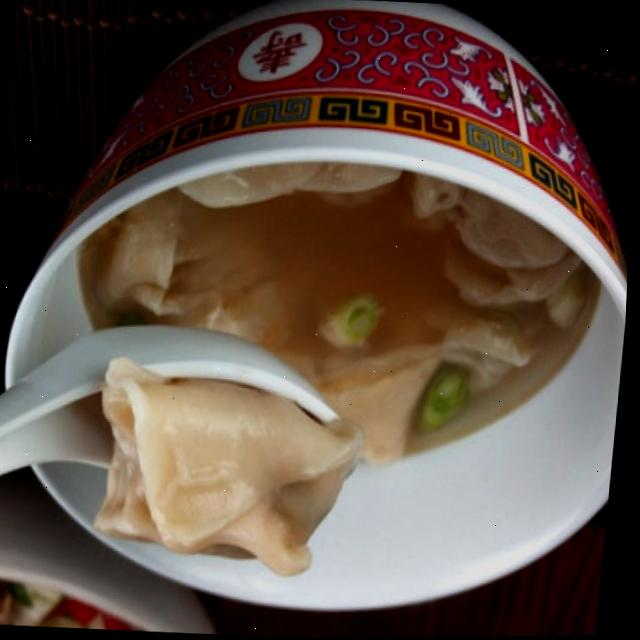汤锅炖物: (0, 81, 637, 634)
